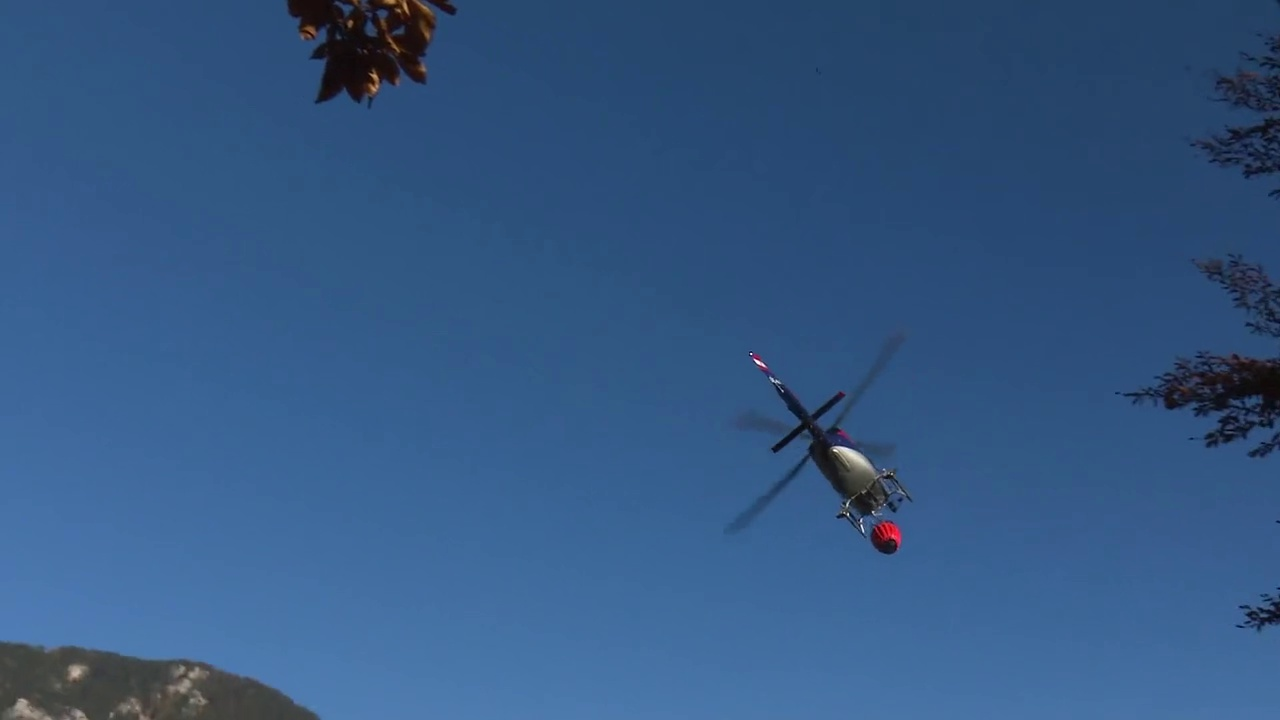heli: (726, 333, 913, 539)
